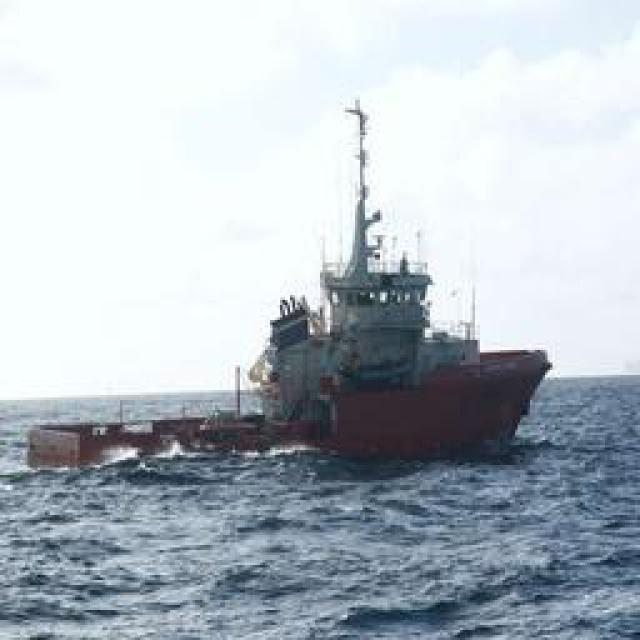Ship: (26, 86, 566, 476)
